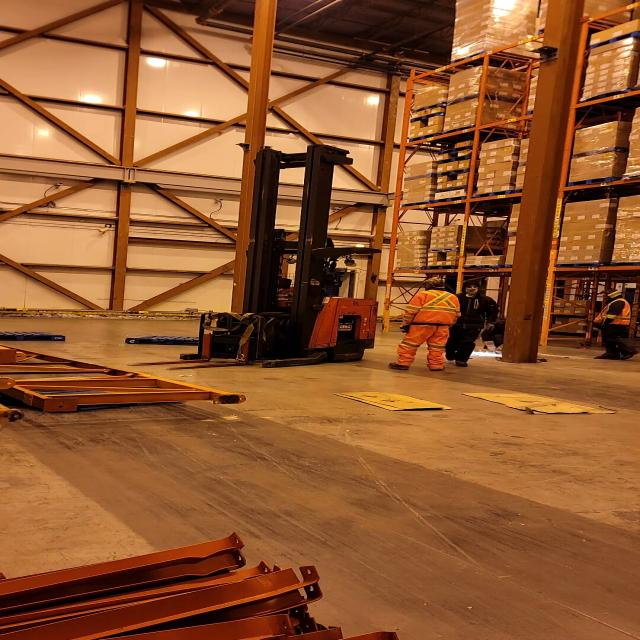forklift: (176, 153, 380, 369)
human: (383, 280, 457, 372), (434, 277, 503, 368), (581, 286, 639, 362), (479, 315, 525, 349)
objectofinterest: (0, 344, 252, 420), (459, 391, 620, 415), (329, 392, 452, 414), (126, 330, 222, 349), (1, 326, 77, 344)
